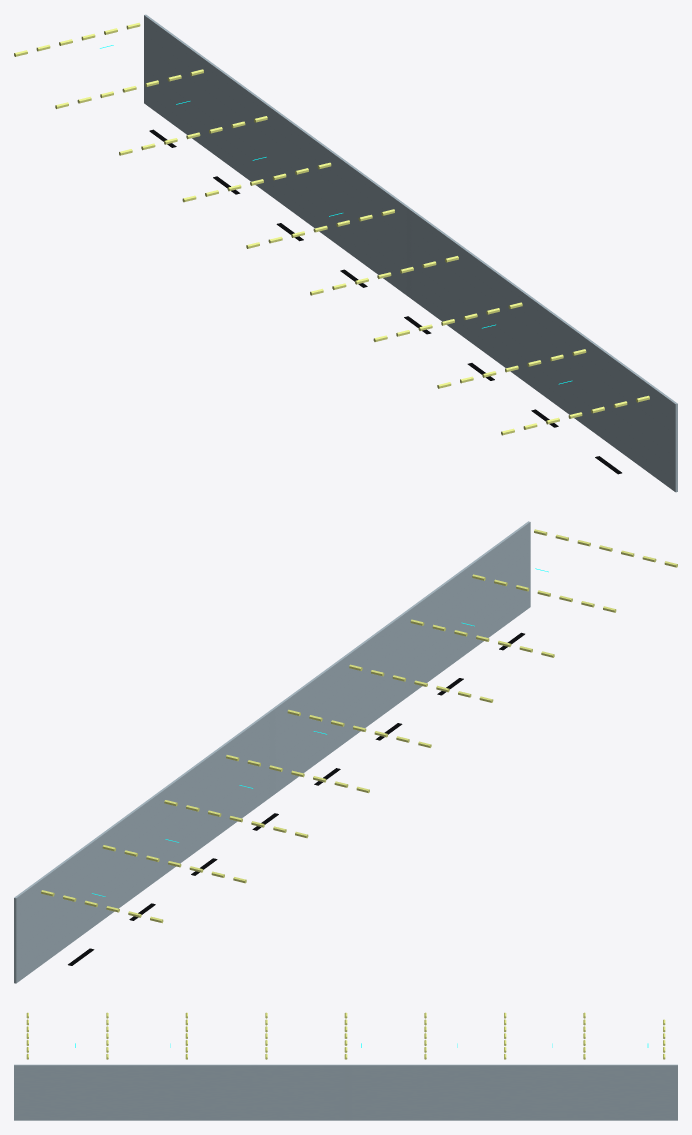
Rendered from tt_pool_lap_tank_d.glb.
The picture shows the model from 3 angles, top to bottom: view 1: azimuth 30°, elevation 25°; view 2: azimuth 150°, elevation 25°; view 3: azimuth 270°, elevation 25°; orthographic projection. The views are drawn at different scales.
Visible parts, largest first — view 1: Tank_Ends, Lane_Floats, Lane_EndT; view 2: Tank_Ends, Lane_Floats, Lane_EndT; view 3: Tank_Ends, Lane_Floats.
Part boxes in pixels (left/top/right/bottom): Tank_Ends: left=144, top=14, right=677, bottom=492; Lane_Floats: left=14, top=22, right=649, bottom=435; Lane_EndT: left=149, top=129, right=621, bottom=474; Tank_Ends: left=14, top=521, right=530, bottom=983; Lane_Floats: left=41, top=529, right=677, bottom=923; Lane_EndT: left=68, top=632, right=524, bottom=965; Tank_Ends: left=14, top=1064, right=677, bottom=1120; Lane_Floats: left=26, top=1012, right=665, bottom=1059.
Size of what is drawn, in the model's own units: 3.74 by 2 by 20.87.
Materials: 4 (2 with a texture image).
